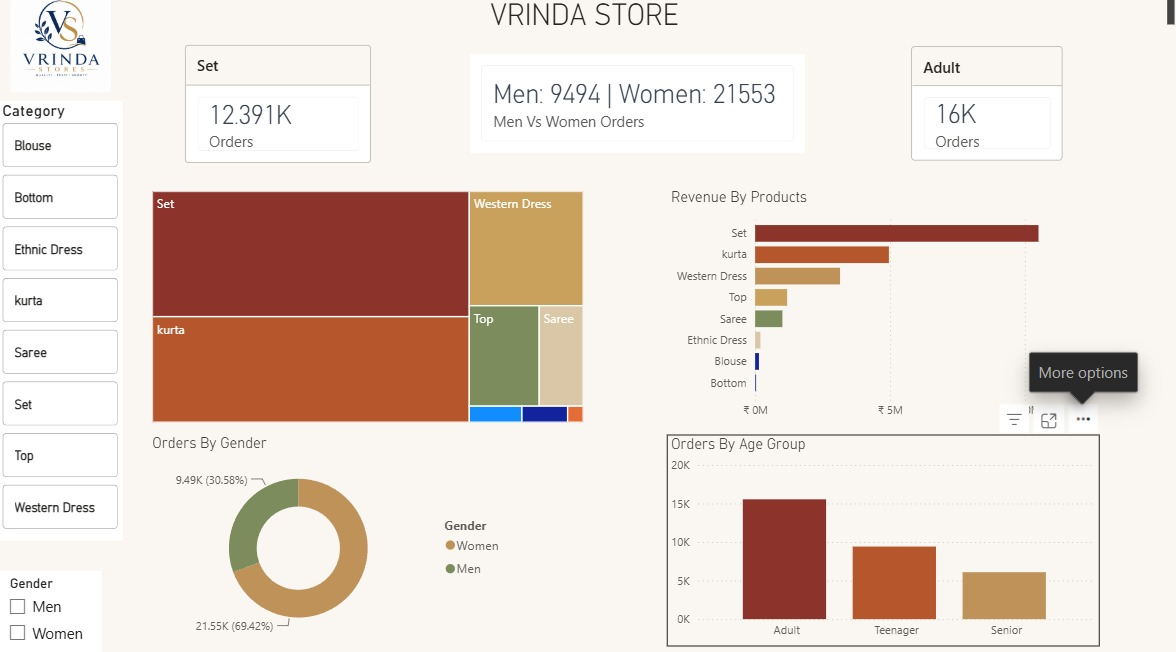

This screenshot's page, from the dashboard's own definition file:
{"tool":"powerbi","page":{"name":"Product & Category Analysis","canvas":[1280,720],"ordinal":2},"visuals":[{"type":"textbox","box":[0,0,1280.3,50.8],"z":0},{"type":"image","box":[0,0,135.8,108.4],"z":1000},{"type":"advancedSlicerVisual","fields":{"Values":["Vrinda Store.Category"]},"box":[0,117.9,135.5,476.9],"z":2000},{"type":"slicer","fields":{"Values":["Vrinda Store.Gender"]},"box":[0,627.3,112.4,92.1],"z":3000},{"type":"cardVisual","fields":{"Rows":["Vrinda Store.Category"],"Data":["CountNonNull(Vrinda Store.Order ID)"]},"box":[197.8,32.5,211.3,178.8],"z":4000},{"type":"cardVisual","fields":{"Data":["Sheet1.Men Vs Women Orders"]},"box":[506.7,62.3,373.9,117.9],"z":5000},{"type":"cardVisual","fields":{"Data":["CountNonNull(Vrinda Store.Order ID)"],"Rows":["Vrinda Store.Age Group"]},"box":[984.9,33.9,174.8,174.8],"z":6000},{"type":"treemap","fields":{"Group":["Vrinda Store.Category"],"Values":["CountNonNull(Vrinda Store.Order ID)"]},"box":[162.6,211.3,476.9,260.1],"z":7000},{"type":"barChart","title":"Revenue By Products","fields":{"Category":["Vrinda Store.Category"],"Y":["Sum(Vrinda Store.Amount)"]},"box":[724.8,211.3,468.8,260.1],"z":8000},{"type":"donutChart","title":"Orders By Gender","fields":{"Y":["CountNonNull(Vrinda Store.Order ID)"],"Category":["Vrinda Store.Gender"]},"box":[162.6,478.2,394.2,230.3],"z":9000},{"type":"columnChart","title":"Orders By Age Group","fields":{"Y":["CountNonNull(Vrinda Store.Order ID)"],"Category":["Vrinda Store.Age Group"]},"box":[724.8,479.6,468.8,230.3],"z":10000}]}

Visuals, with their boxes in screenshot pixels (x1, y1, x2, y2), scaled from the page's 1280x720 canvas onto the 1176x652 screenshot:
textbox: Rect(0, 0, 1175, 46)
image: Rect(0, 0, 125, 98)
advancedSlicerVisual - Vrinda Store.Category: Rect(0, 107, 124, 539)
slicer - Vrinda Store.Gender: Rect(0, 568, 103, 651)
cardVisual - Vrinda Store.Category x CountNonNull(Vrinda Store.Order ID): Rect(182, 29, 376, 191)
cardVisual - Sheet1.Men Vs Women Orders: Rect(466, 56, 809, 163)
cardVisual - CountNonNull(Vrinda Store.Order ID) x Vrinda Store.Age Group: Rect(905, 31, 1065, 189)
treemap - Vrinda Store.Category x CountNonNull(Vrinda Store.Order ID): Rect(149, 191, 588, 427)
"Revenue By Products" barChart: Rect(666, 191, 1097, 427)
"Orders By Gender" donutChart: Rect(149, 433, 512, 642)
"Orders By Age Group" columnChart: Rect(666, 434, 1097, 643)
